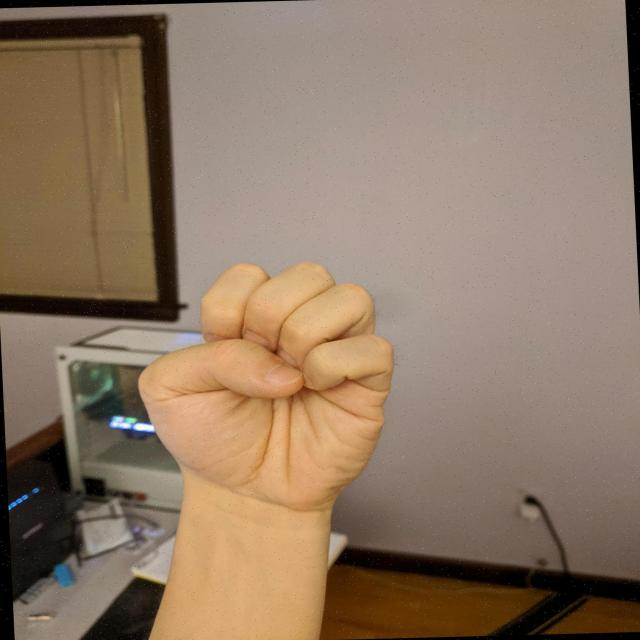E: (125, 256, 409, 523)
